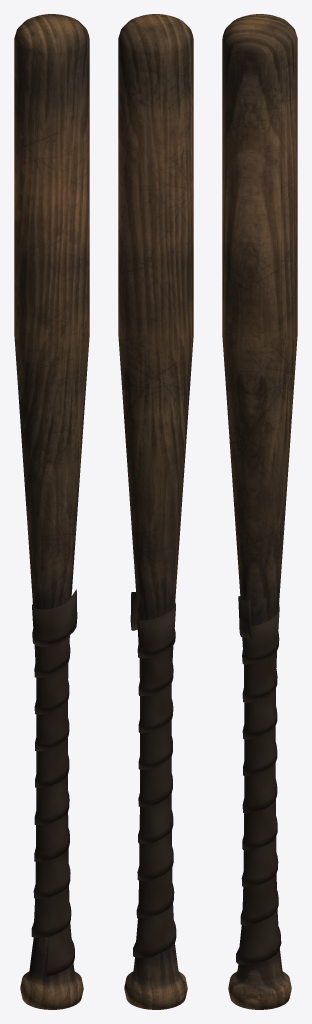
Rendered from baseball_bat.glb.
3 renders of one model, left to right at view 1: azimuth 30°, elevation 25°; view 2: azimuth 210°, elevation 25°; view 3: azimuth 270°, elevation 25°, orthographic.
Parts seen in each view (by area): view 1: baseball_bat; view 2: baseball_bat; view 3: baseball_bat.
Part boxes in pixels (x1,y1,x2,y2): baseball_bat: [14, 14, 89, 1009]; baseball_bat: [118, 14, 193, 1009]; baseball_bat: [222, 14, 297, 1009].
Bounding box in the file's own units: 0.0557 × 0.8 × 0.0557.
1 material, 1 textured.
